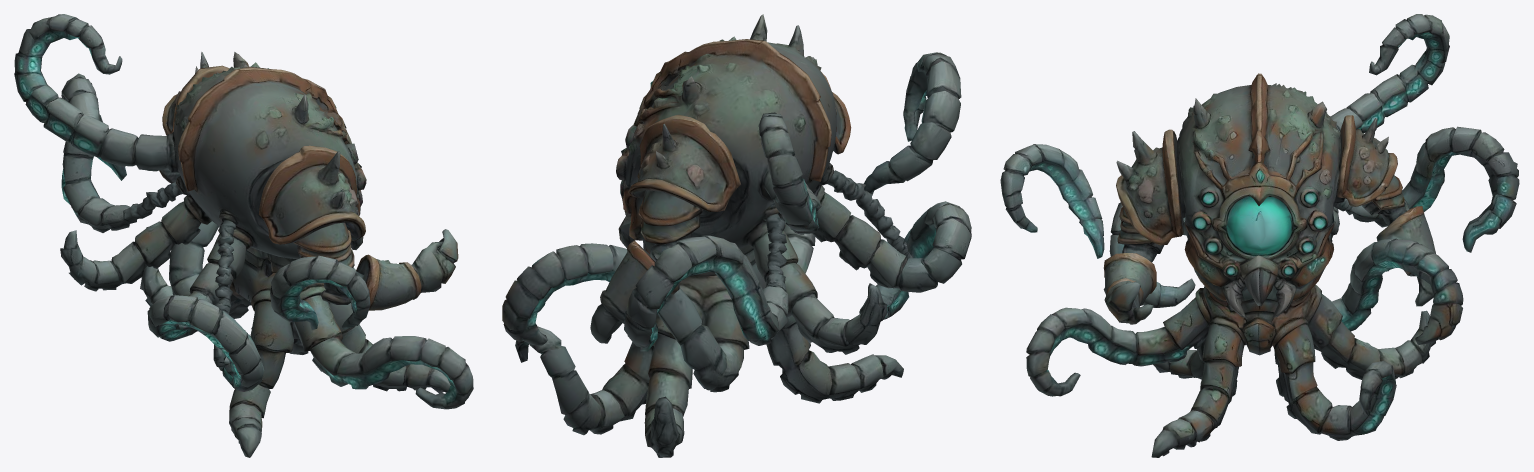
Rendered from mecha_kraken.glb.
3 views of the same model, side by side, from view 1: azimuth 30°, elevation 25°; view 2: azimuth 150°, elevation 25°; view 3: azimuth 270°, elevation 25° (orthographic). The views are drawn at different scales.
Parts seen in each view (by area): view 1: tripo_node_488daf1d-4e90-4845-b851-10e661dee64d; view 2: tripo_node_488daf1d-4e90-4845-b851-10e661dee64d; view 3: tripo_node_488daf1d-4e90-4845-b851-10e661dee64d.
Boxes of the visible parts, <box> form: tripo_node_488daf1d-4e90-4845-b851-10e661dee64d: <box>14,14,473,457</box>; tripo_node_488daf1d-4e90-4845-b851-10e661dee64d: <box>502,14,971,457</box>; tripo_node_488daf1d-4e90-4845-b851-10e661dee64d: <box>1000,14,1519,457</box>.
Size of the model in its own units: 0.6477 by 0.7086 by 1.
Materials: 1 (1 with a texture image).
